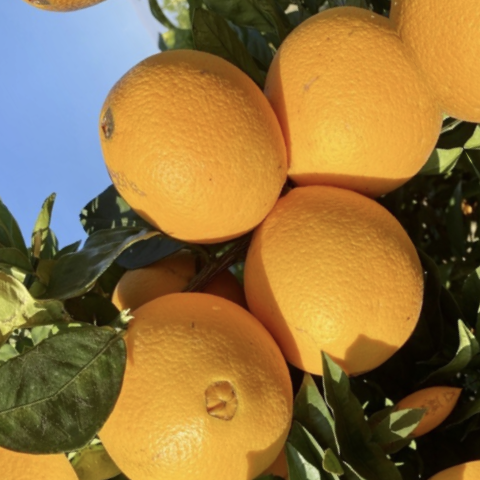orange: (193, 148, 463, 429), (34, 236, 336, 480), (202, 0, 477, 264), (59, 0, 317, 277)
